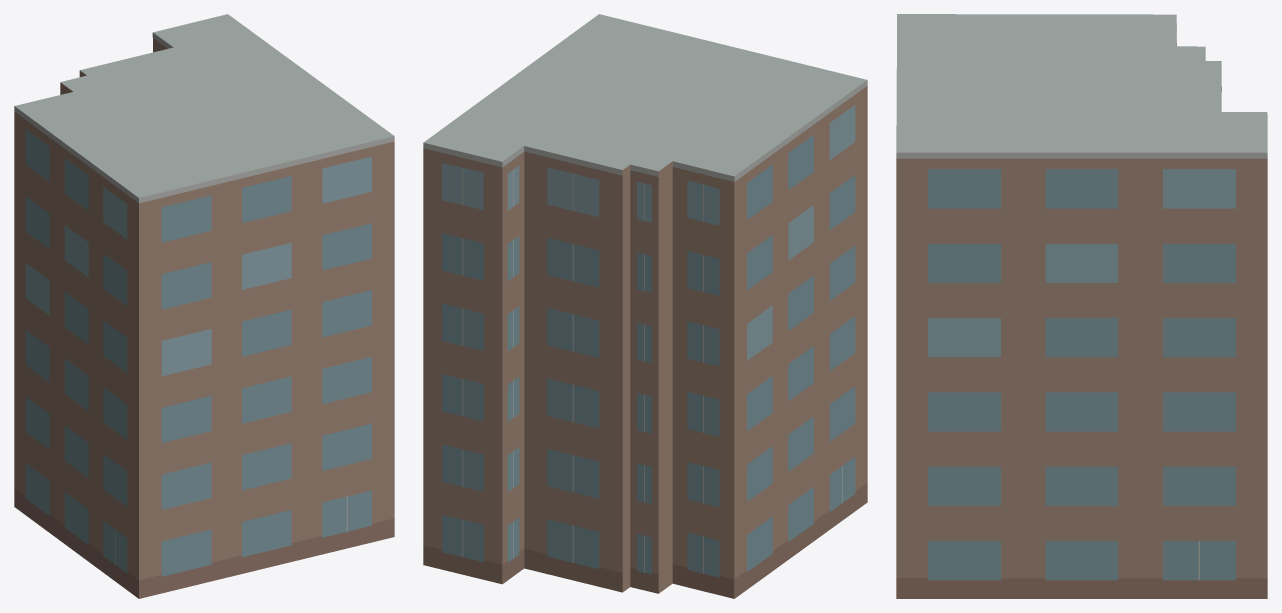
Rendered from survey-upis-32759878.glb.
3 renders of one model, left to right at view 1: azimuth 30°, elevation 25°; view 2: azimuth 150°, elevation 25°; view 3: azimuth 270°, elevation 25°, orthographic. The views are drawn at different scales.
Parts seen in each view (by area): view 1: survey-upis-32759878.tmp; view 2: survey-upis-32759878.tmp; view 3: survey-upis-32759878.tmp.
Part boxes in pixels (<box>): survey-upis-32759878.tmp: <box>14,14,394,598</box>; survey-upis-32759878.tmp: <box>423,14,867,598</box>; survey-upis-32759878.tmp: <box>896,14,1267,598</box>.
Bounding box in the file's own units: 12.27 × 18.4 × 13.89.
